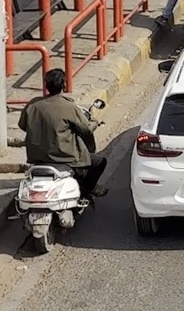BikeWithRider: (11, 65, 127, 254)
NoHelmet: (38, 65, 73, 98)
